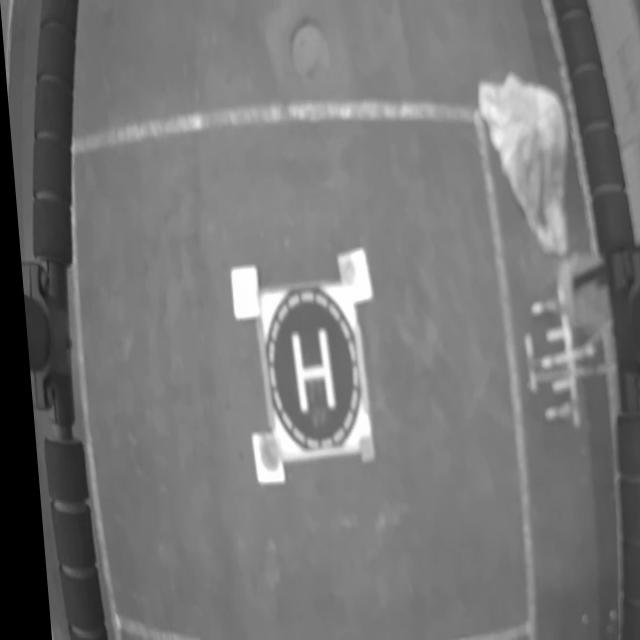Helipad: (283, 329, 330, 413)
